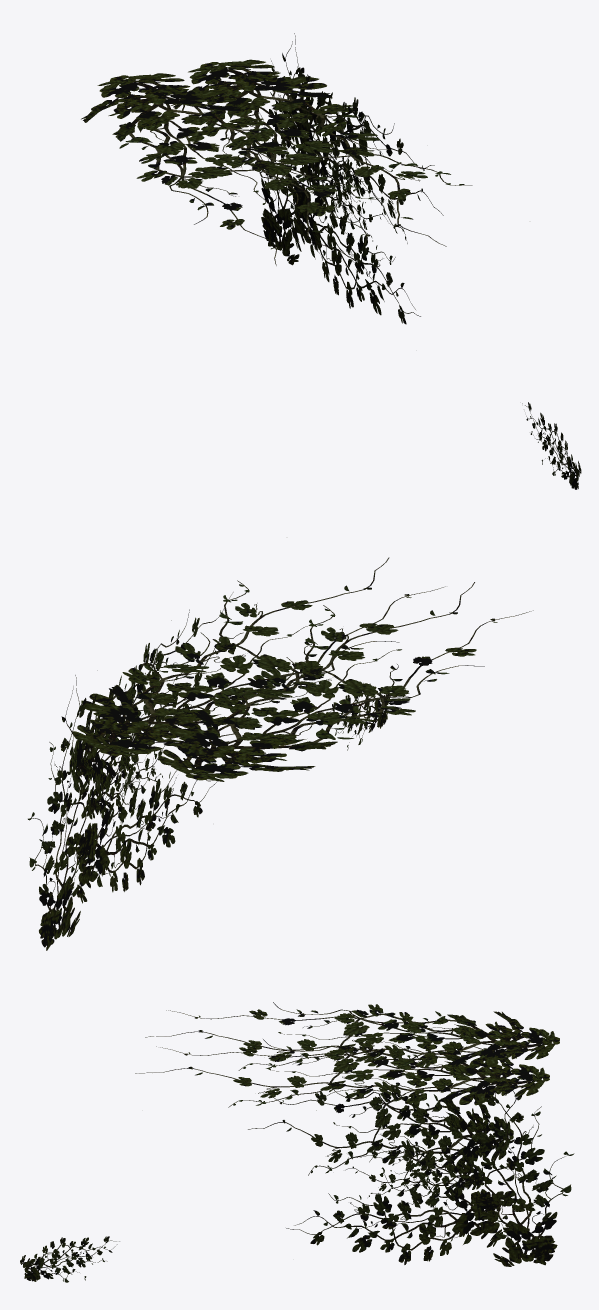
File: Bus_Decals.fbx
The picture shows the model from 3 angles, top to bottom: view 1: azimuth 30°, elevation 25°; view 2: azimuth 150°, elevation 25°; view 3: azimuth 270°, elevation 25°; orthographic projection. The views are drawn at different scales.
Visible parts, largest first — view 1: Bus_Decals; view 2: Bus_Decals; view 3: Bus_Decals.
Boxes of the visible parts, x1,y1,x2,y2 form: Bus_Decals: (81,33,581,489); Bus_Decals: (28,557,533,950); Bus_Decals: (20,1002,574,1282).
Bounding box in the file's own units: 1.56 × 1.56 × 3.47.
